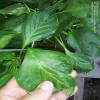Bell_pepper leaf spot: (61, 17, 99, 63), (6, 31, 63, 61), (33, 1, 76, 26), (66, 5, 96, 27), (0, 7, 25, 29)
